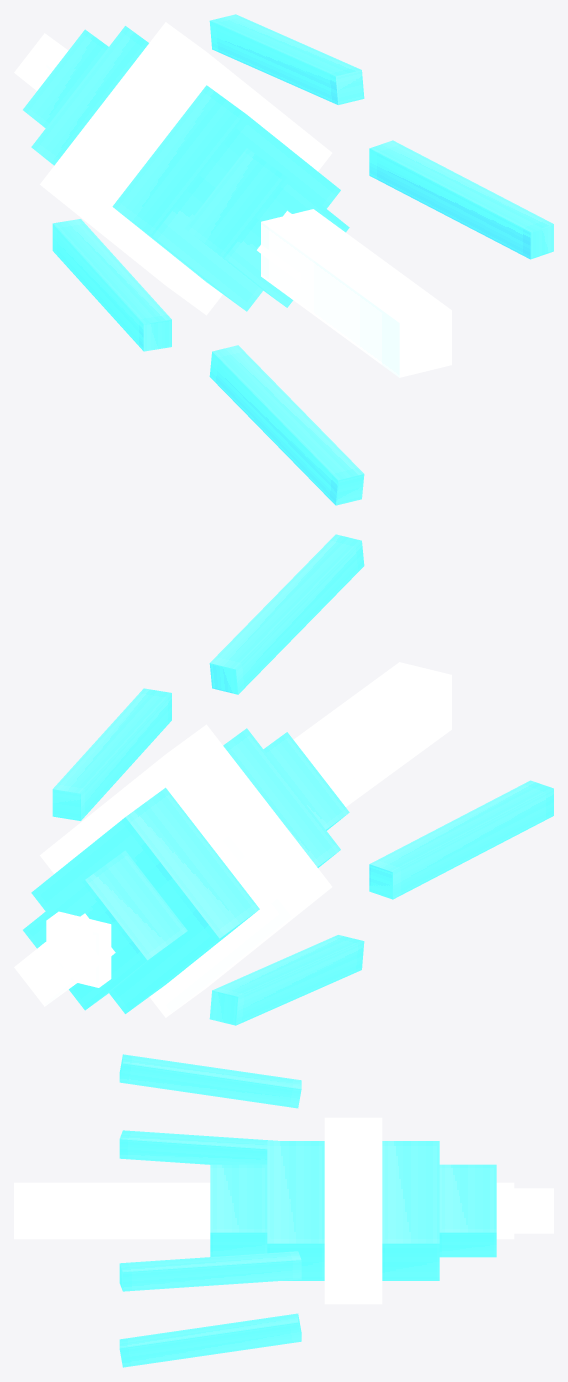
File: throne_shot_blue.gltf
3 views of the same model, one above another, from view 1: azimuth 30°, elevation 25°; view 2: azimuth 150°, elevation 25°; view 3: azimuth 270°, elevation 25° (orthographic). The views are drawn at different scales.
Visible parts, largest first — view 1: core_mesh; view 2: core_mesh; view 3: core_mesh.
Boxes of the visible parts, x1,y1,x2,y2 form: core_mesh: (14,14,553,505); core_mesh: (14,534,553,1025); core_mesh: (14,1054,553,1367).
Size of the model in its own units: 0.587 by 0.587 by 0.9444.
1 material, 1 textured.
